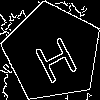H: (27, 27, 81, 85)
